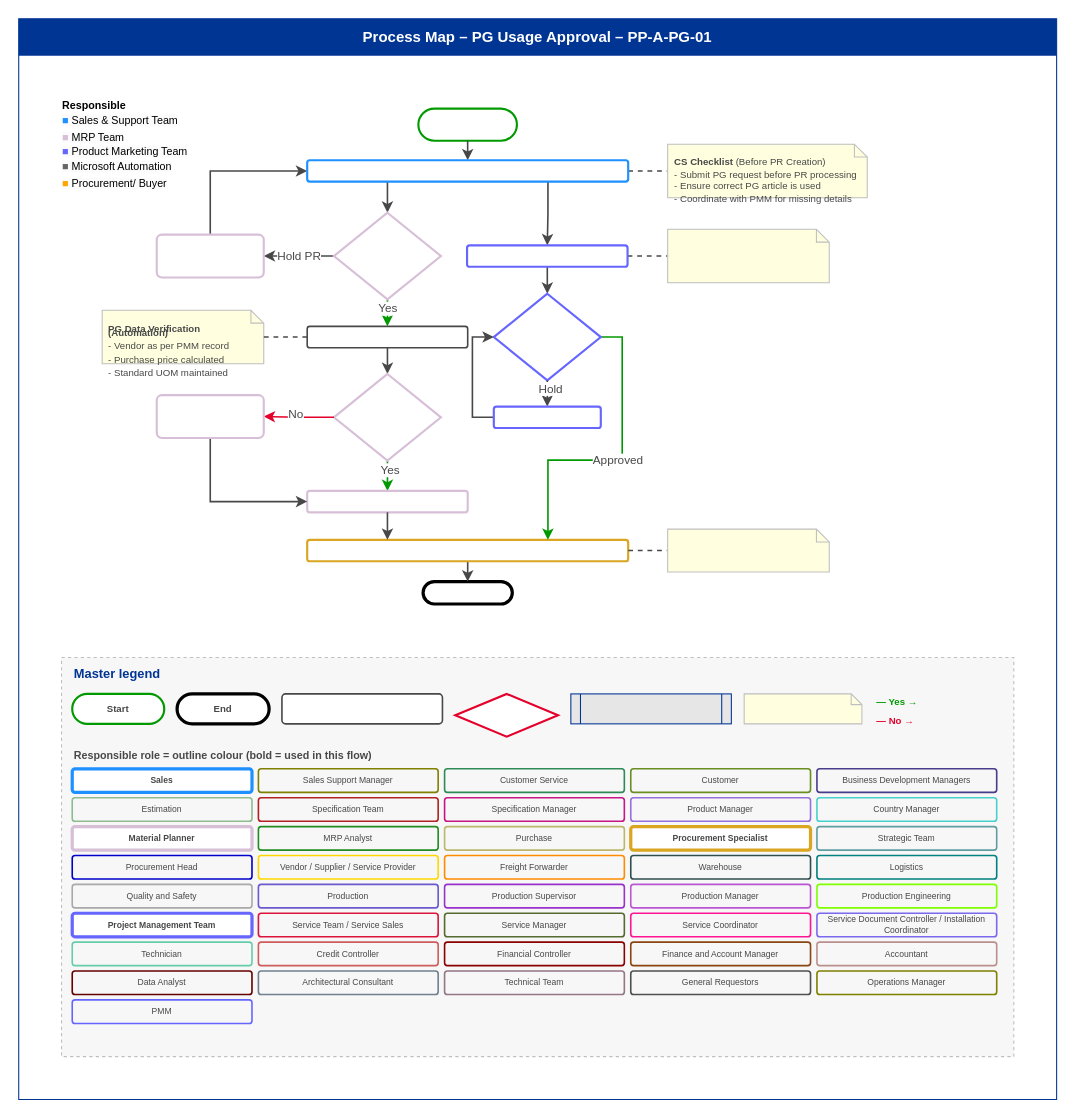
This 1075x1118 diagram has some shape labels left out. Here are the shapes that lost their labels. From the top down, the box of each, then its label:
(417, 107, 517, 141): PG Request Submitted
(306, 159, 629, 182): Submit the PG Usage Request in Teams Channel
(155, 233, 264, 278): Notify Customer Service to submit PG request
(332, 211, 441, 300): PG Request Available?
(465, 244, 628, 267): Verify and update PG Request
(667, 228, 829, 283): Key Details Required - Vendor Name - Unit of Measurement (UOM) - Purchase Price
(306, 325, 468, 348): Auto Approval/Update
(492, 292, 601, 381): PG Details Updated!
(155, 394, 264, 438): Obtain vendor details from PMM / CH / Vendor Manager.
(332, 372, 441, 461): Fixed Vendor Assigned
(492, 405, 601, 429): Get Details
(306, 489, 468, 513): Process Purchase Requisition
(306, 538, 629, 562): Purchase Order Creation
(667, 528, 829, 572): Final Check (Buyer) - Use Approved cost & UOM - Validate T&C, Leadtime
(421, 579, 513, 605): Complete
(281, 693, 443, 724): Activity (outline = role)
(454, 692, 559, 737): Decision
(570, 693, 731, 724): Linked process (Ref ID)
(743, 693, 862, 724): Note / checklist
